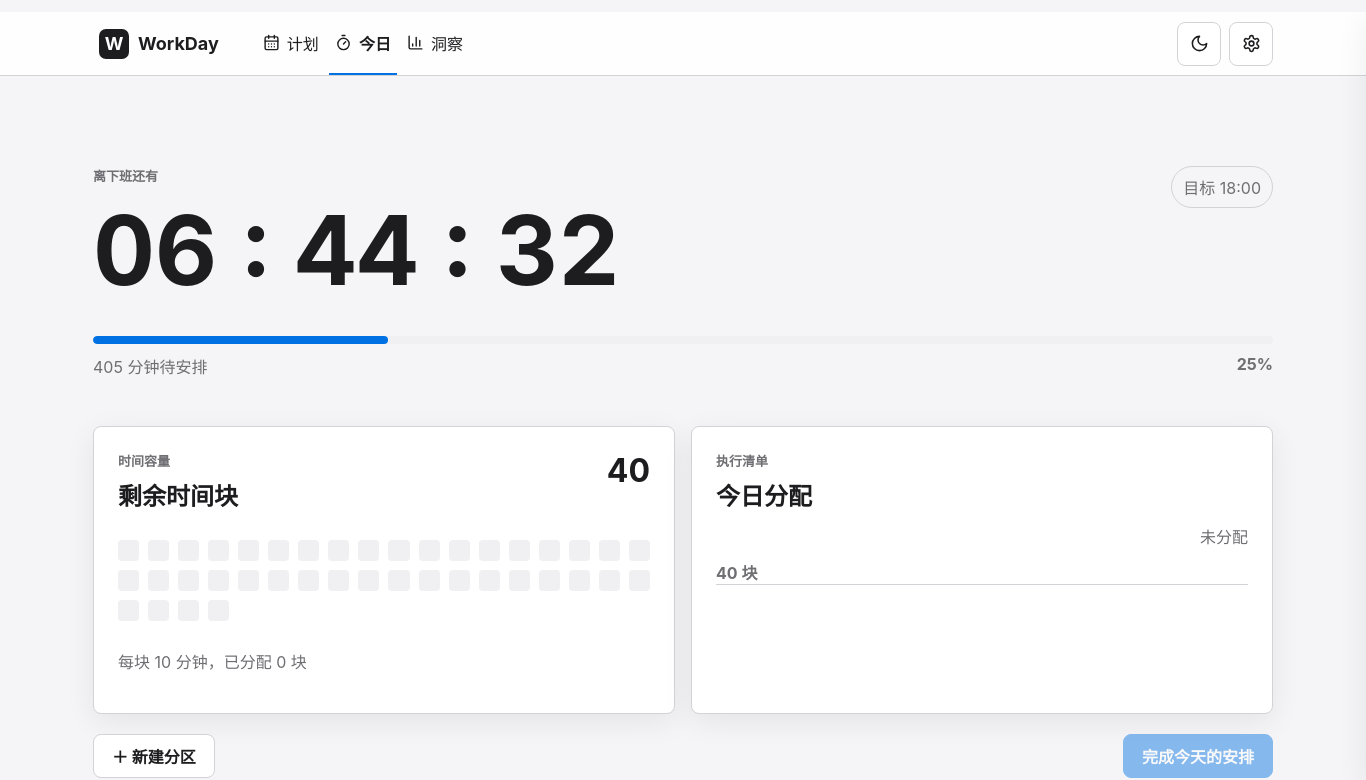
Test: WorkDay 核心流程 › 能够在三个主要页面之间导航
expect the heading "06 : 44 : 32" is shown: met, box x1=93 y1=192 x2=620 y2=308
Click the button "计划" at (291, 44), box x1=257 y1=12 x2=325 y2=75
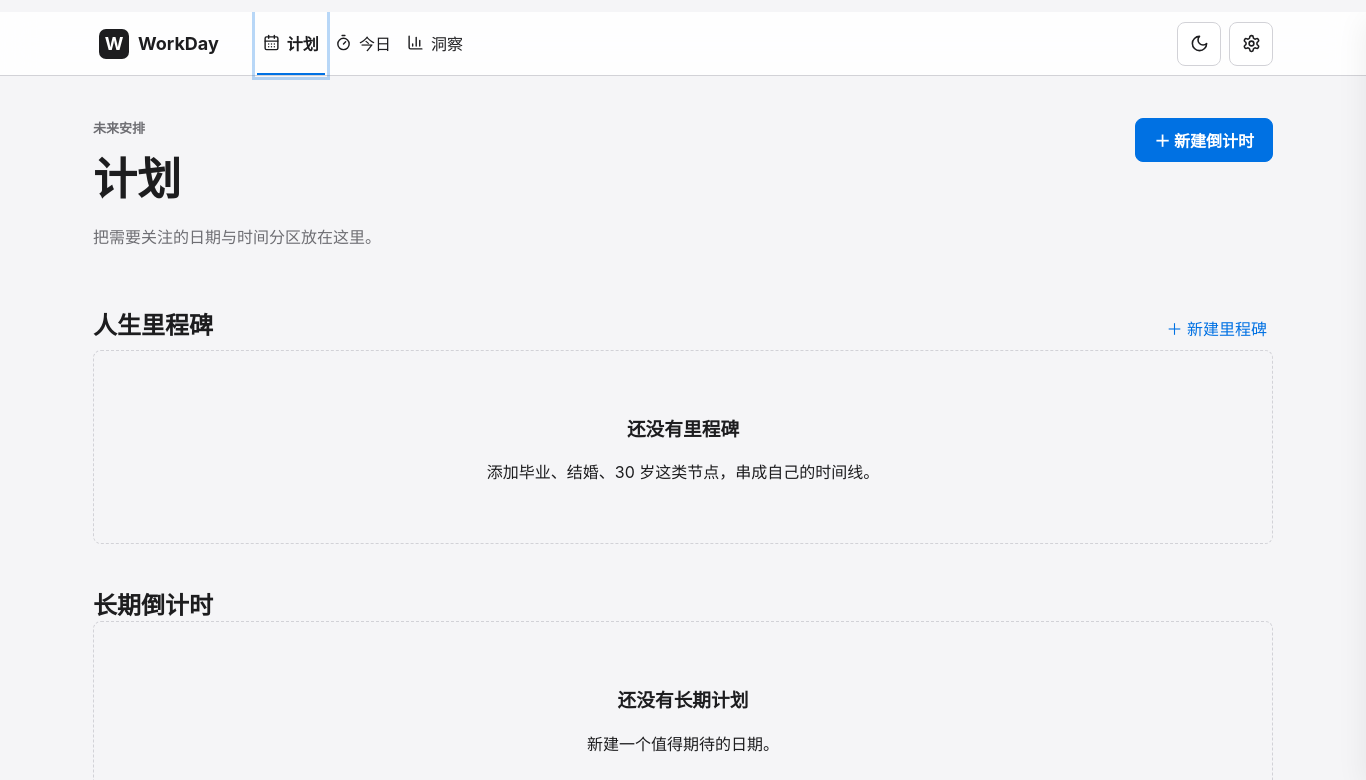
expect the heading "计划" is shown: met, box x1=93 y1=152 x2=181 y2=206
Click the button "洞察" at (435, 44), box x1=401 y1=12 x2=469 y2=75
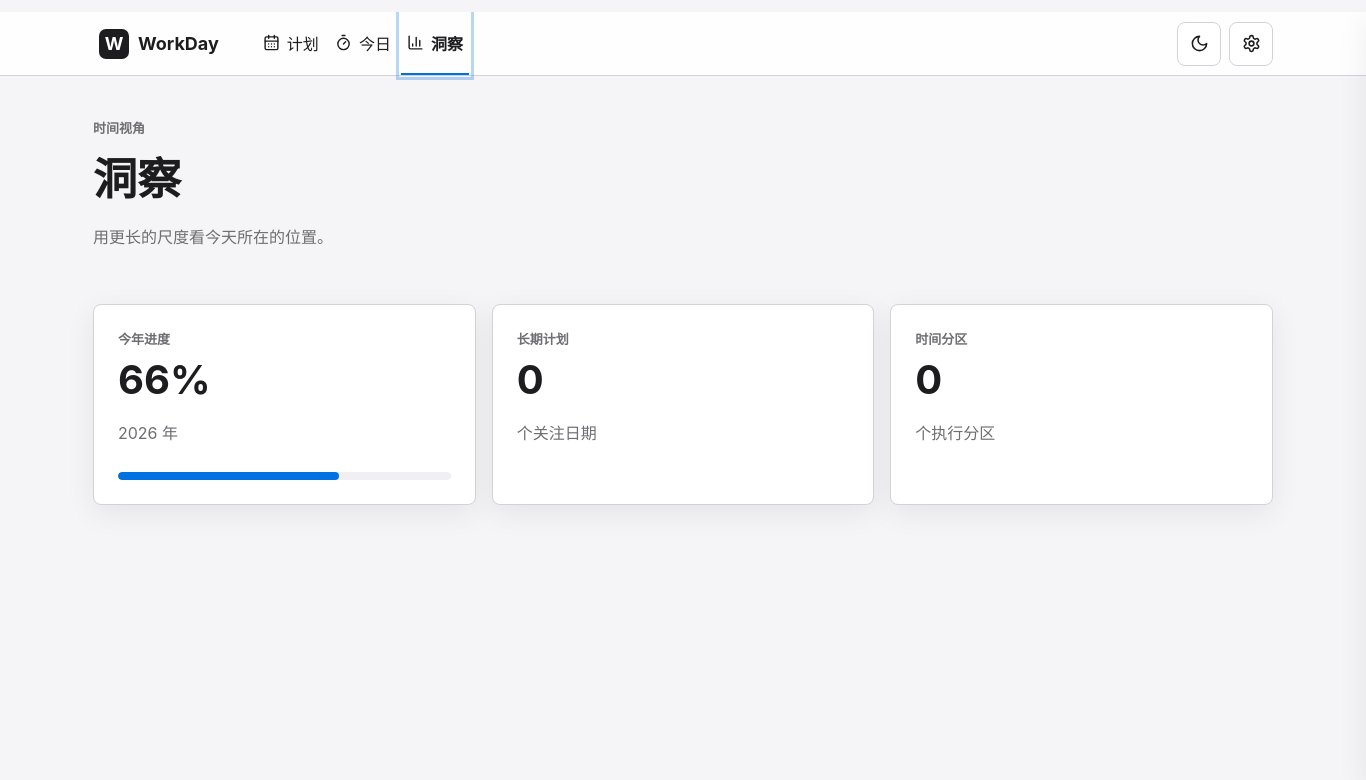
expect the heading "洞察" is shown: met, box x1=93 y1=152 x2=181 y2=206
